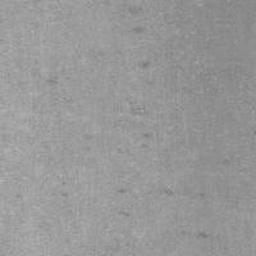Inclusion: (131, 4, 143, 35), (142, 60, 154, 86), (159, 187, 175, 197), (140, 134, 151, 147), (59, 189, 69, 200), (196, 232, 207, 241), (120, 210, 131, 218), (221, 157, 230, 166), (198, 192, 205, 201), (118, 187, 125, 193)
